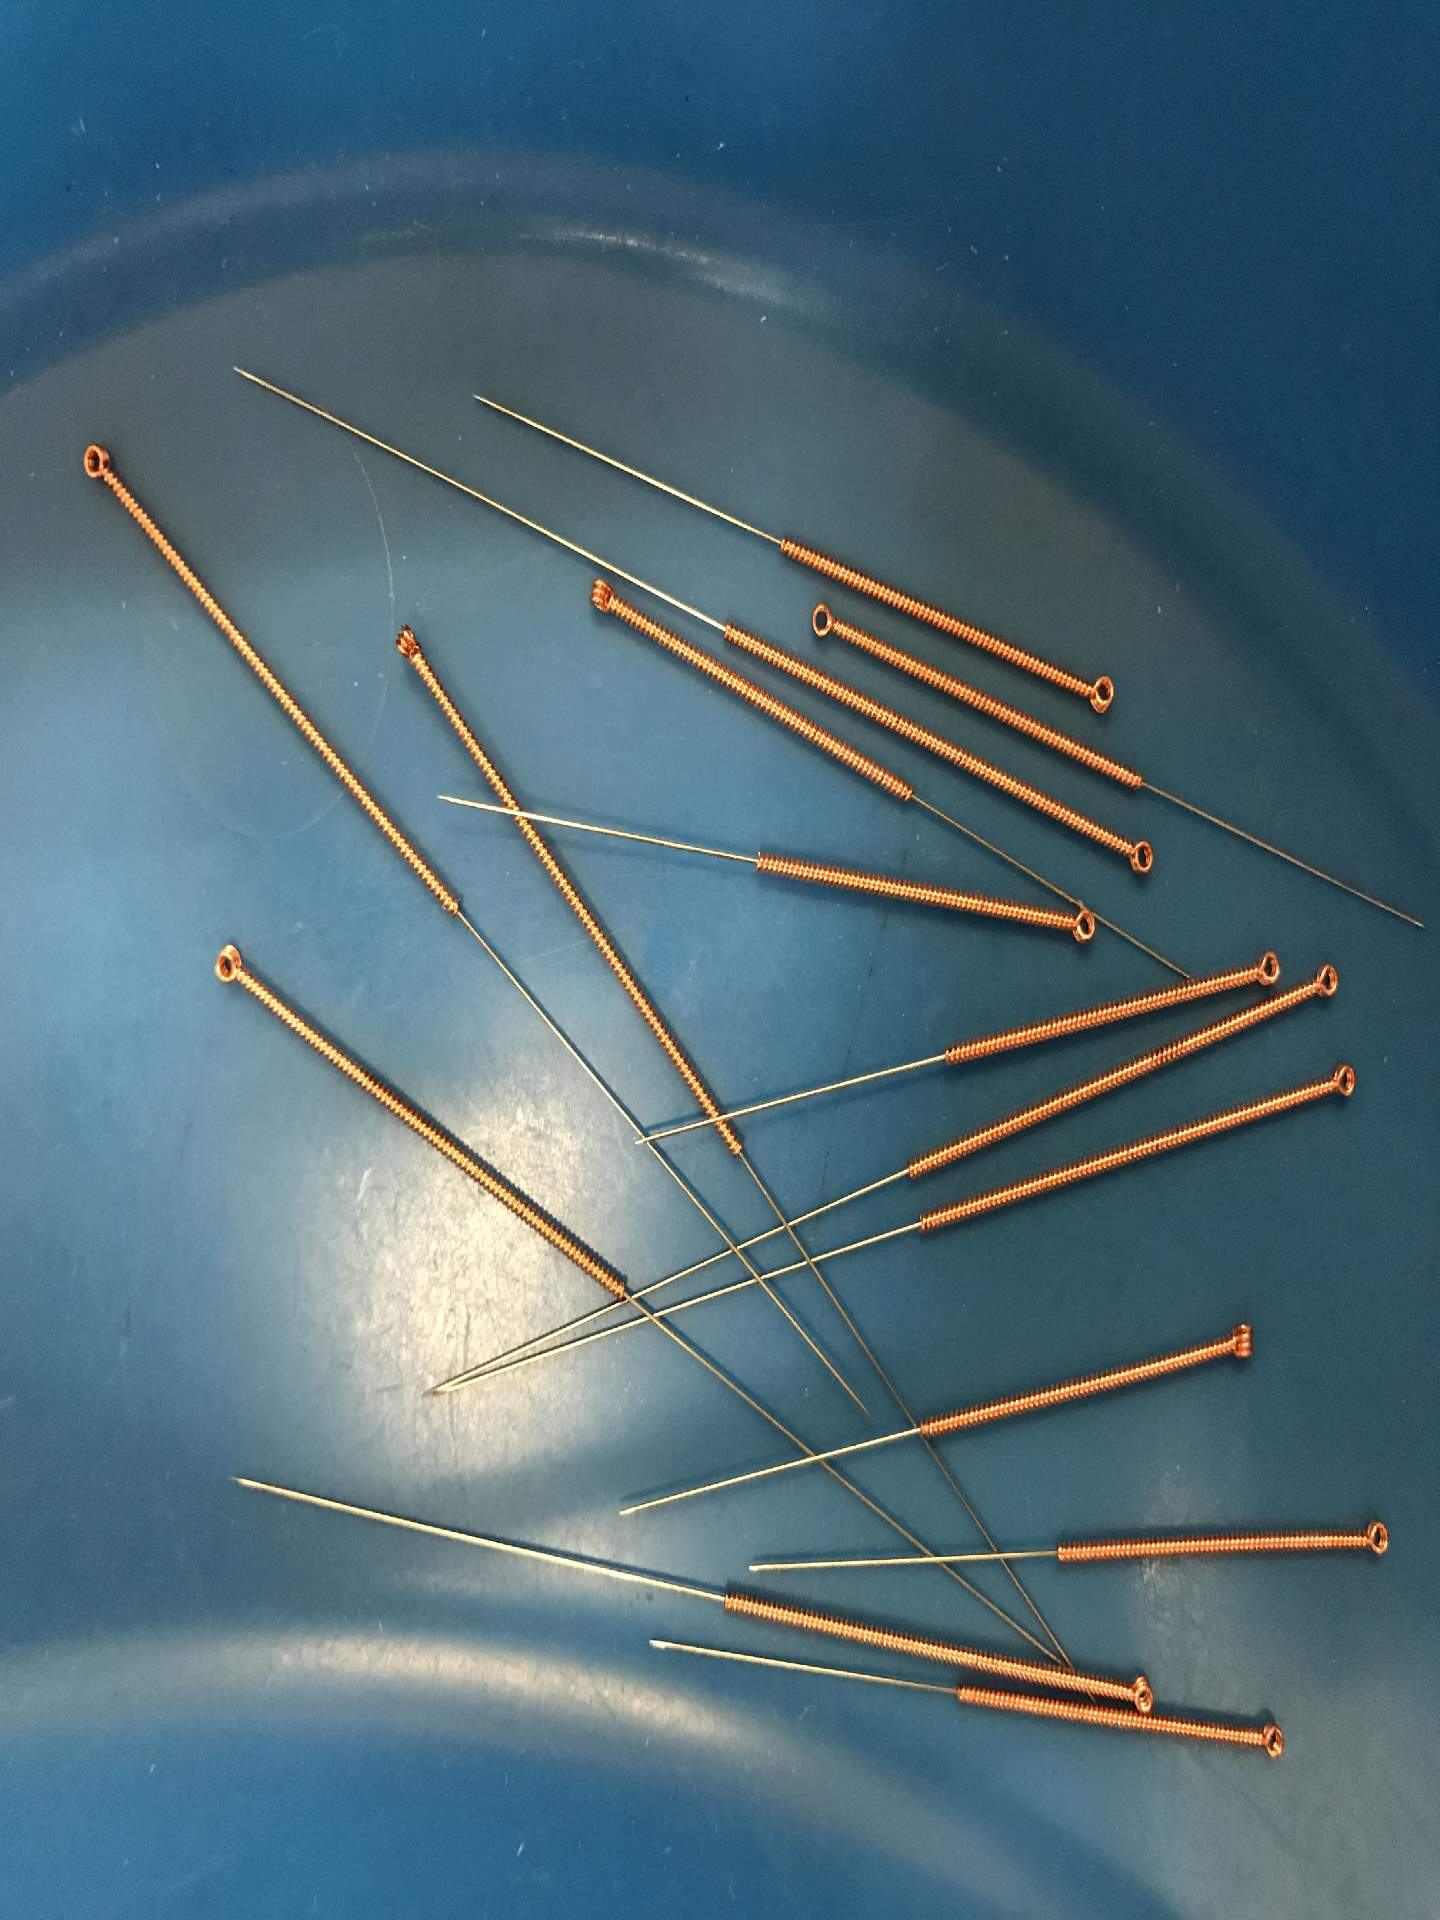needle: (378, 609, 439, 689), (1066, 659, 1130, 723), (1204, 1311, 1266, 1374), (793, 591, 858, 652), (1110, 821, 1168, 887), (70, 429, 126, 497), (200, 933, 259, 996), (1345, 1503, 1399, 1571), (1239, 1702, 1290, 1769), (1313, 1055, 1373, 1111), (572, 570, 629, 626), (1231, 937, 1289, 993), (1293, 952, 1351, 1007), (1051, 901, 1104, 952), (1119, 1668, 1163, 1720)
